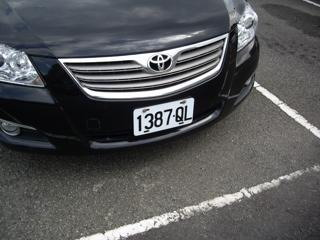plate: (132, 99, 193, 133)
